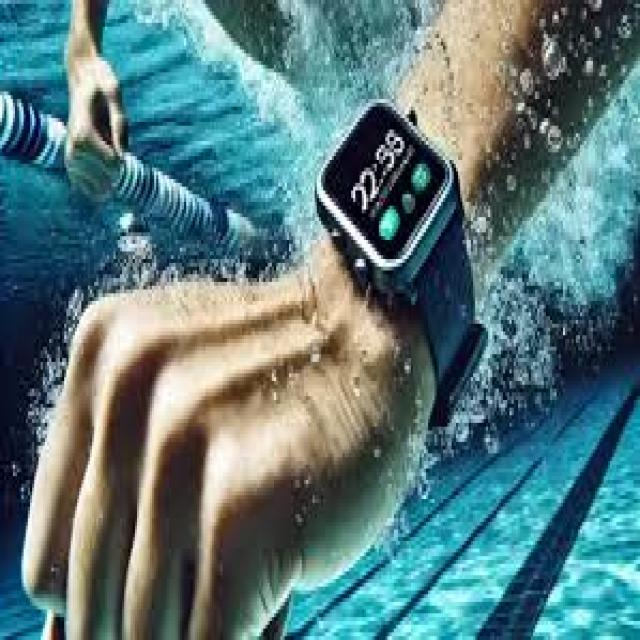objects: (316, 97, 489, 412)
